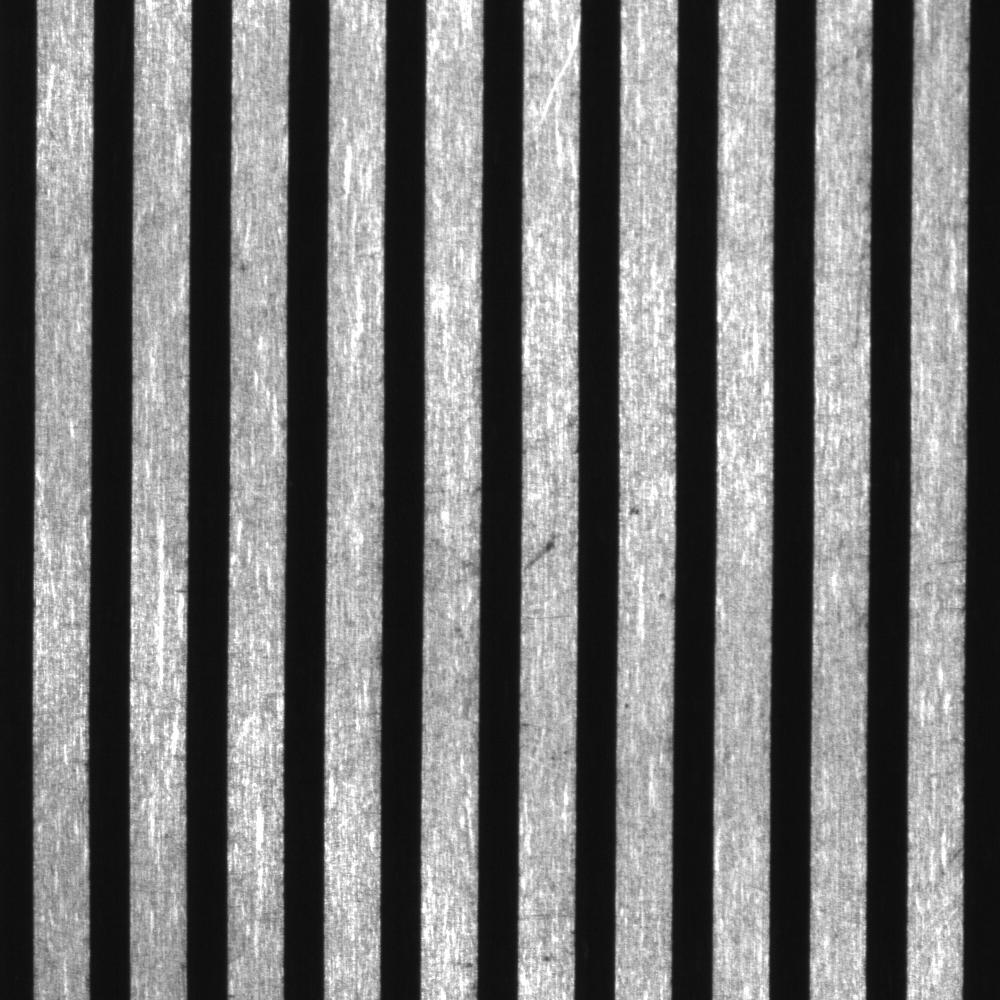Etching: (621, 484, 660, 537)
Scar: (516, 516, 577, 600), (521, 733, 575, 802)
